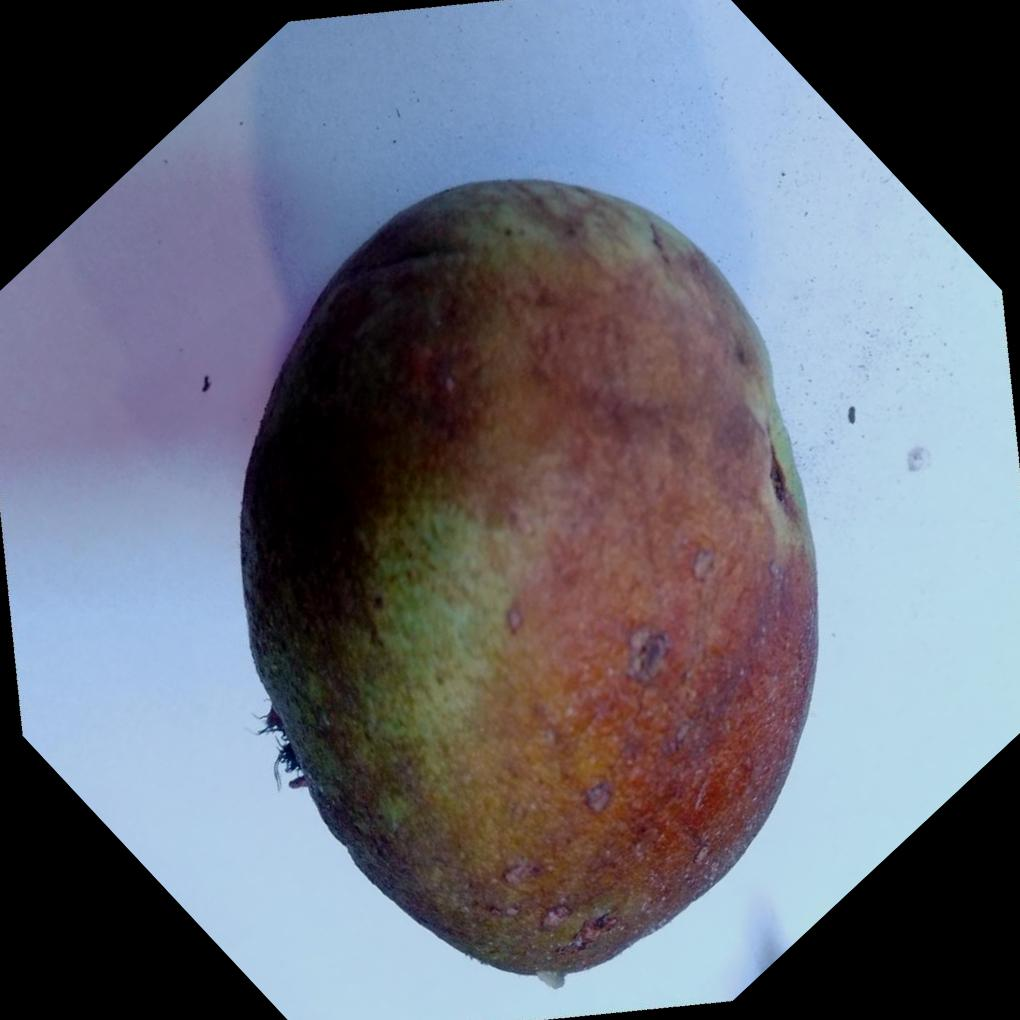FreshOrange: (240, 173, 821, 979)
